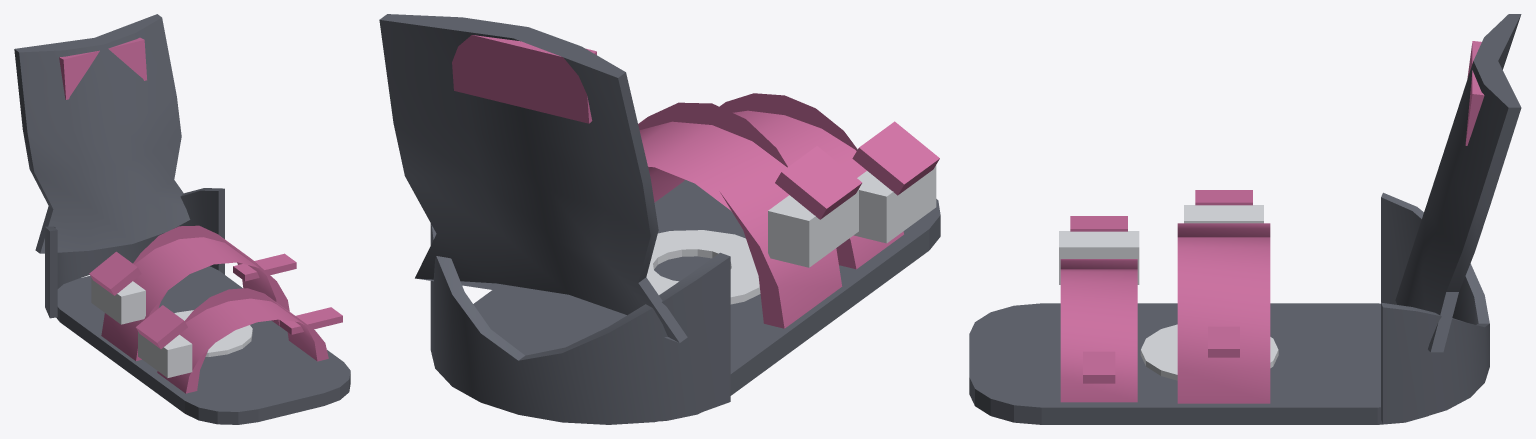
File: snowboard-gear-and-freestyle-riders-strap-binding-ad40aa67__27146.glb
3 views of the same model, side by side, from view 1: azimuth 30°, elevation 25°; view 2: azimuth 150°, elevation 25°; view 3: azimuth 270°, elevation 25° (orthographic). The views are drawn at different scales.
Visible parts, largest first — view 1: strap-binding; view 2: strap-binding; view 3: strap-binding.
Part boxes in pixels (x1,y1,x2,y2): strap-binding: (14,14,350,424); strap-binding: (379,14,940,424); strap-binding: (969,14,1521,424).
Bounding box in the file's own units: 0.1848 × 0.215 × 0.3448.
